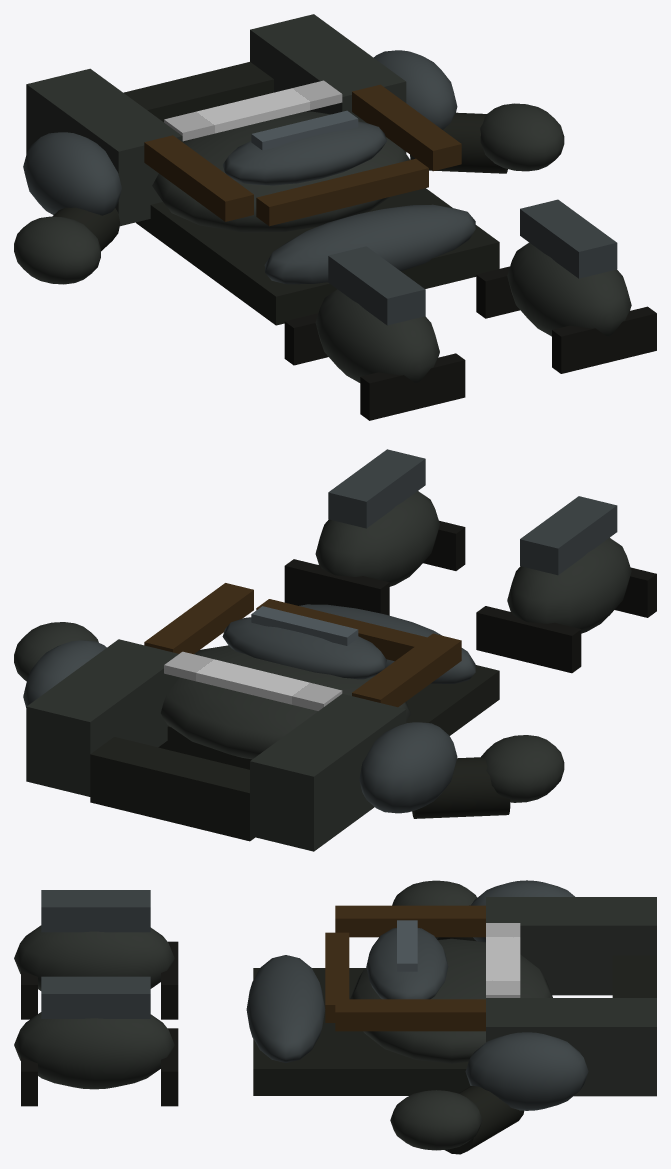
File: CMU3DRiotArmorCloud.glb
3 views of the same model, one above another, from view 1: azimuth 30°, elevation 25°; view 2: azimuth 150°, elevation 25°; view 3: azimuth 270°, elevation 25° (orthographic). The views are drawn at different scales.
Visible parts, largest first — view 1: connected lower textile carrier, upper yoke left, abdominal flexible plate, upper yoke right, -1 detached shin guard shell, 1 detached shin guard shell, main chest pad, -1 separate upper arm plate, lower raised breast plate, brown lower retaining strap, -1 shin raised ridge, 1 shin raised ridge (+14 smaller); view 2: upper yoke left, upper yoke right, upper neck bridge, main chest pad, -1 detached shin guard shell, 1 detached shin guard shell, -1 separate upper arm plate, lower raised breast plate, connected lower textile carrier, 1 shin raised ridge, -1 shin raised ridge, -1 shin webbing top (+13 smaller); view 3: upper yoke left, upper yoke right, connected lower textile carrier, 1 detached shin guard shell, 1 separate upper arm plate, main chest pad, -1 detached shin guard shell, abdominal flexible plate, 1 brown side retaining strap, 1 shin raised ridge, -1 shin raised ridge, 1 separate forearm pad (+13 smaller).
Part boxes in pixels (x1=…): connected lower textile carrier: x1=136, y1=188, x2=499, y2=325; upper yoke left: x1=26, y1=68, x2=182, y2=226; abdominal flexible plate: x1=264, y1=204, x2=475, y2=284; upper yoke right: x1=250, y1=14, x2=406, y2=153; -1 detached shin guard shell: x1=315, y1=289, x2=439, y2=383; 1 detached shin guard shell: x1=507, y1=242, x2=631, y2=336; main chest pad: x1=152, y1=111, x2=409, y2=232; -1 separate upper arm plate: x1=23, y1=132, x2=121, y2=215; lower raised breast plate: x1=222, y1=121, x2=386, y2=185; brown lower retaining strap: x1=256, y1=158, x2=428, y2=226; -1 shin raised ridge: x1=328, y1=246, x2=425, y2=325; 1 shin raised ridge: x1=520, y1=199, x2=617, y2=278; upper yoke left: x1=250, y1=693, x2=406, y2=851; upper yoke right: x1=26, y1=639, x2=179, y2=796; upper neck bridge: x1=90, y1=737, x2=254, y2=841; main chest pad: x1=161, y1=645, x2=410, y2=759; -1 detached shin guard shell: x1=507, y1=537, x2=631, y2=633; 1 detached shin guard shell: x1=315, y1=491, x2=439, y2=586; -1 separate upper arm plate: x1=359, y1=722, x2=457, y2=813; lower raised breast plate: x1=222, y1=617, x2=386, y2=679; connected lower textile carrier: x1=158, y1=665, x2=499, y2=769; 1 shin raised ridge: x1=328, y1=449, x2=425, y2=528; -1 shin raised ridge: x1=520, y1=496, x2=617, y2=575; -1 shin webbing top: x1=476, y1=606, x2=581, y2=673; upper yoke left: x1=486, y1=897, x2=656, y2=995; upper yoke right: x1=486, y1=998, x2=656, y2=1096; connected lower textile carrier: x1=253, y1=968, x2=470, y2=1095; 1 detached shin guard shell: x1=14, y1=1012, x2=174, y2=1089; 1 separate upper arm plate: x1=465, y1=1032, x2=588, y2=1110; main chest pad: x1=350, y1=938, x2=552, y2=1063; -1 detached shin guard shell: x1=14, y1=925, x2=174, y2=990; abdominal flexible plate: x1=246, y1=955, x2=325, y2=1062; 1 brown side retaining strap: x1=335, y1=999, x2=485, y2=1031; 1 shin raised ridge: x1=41, y1=976, x2=150, y2=1018; -1 shin raised ridge: x1=41, y1=890, x2=150, y2=932; 1 separate forearm pad: x1=390, y1=1090, x2=482, y2=1150.
Bounding box in the file's own units: 0.525 × 0.11 × 0.5875.
7 materials, 1 textured.
